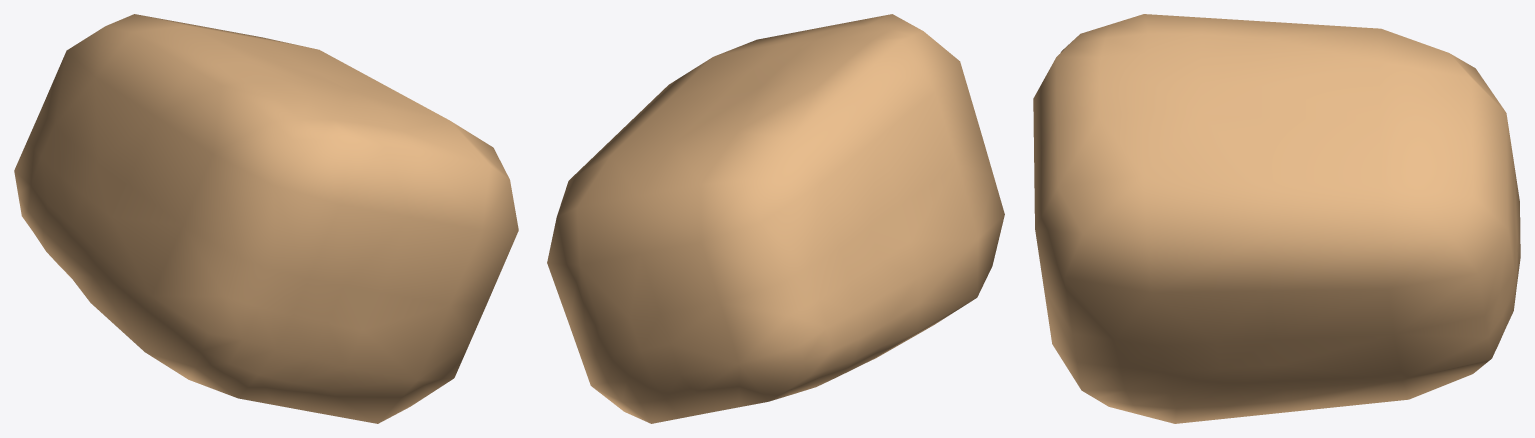
The model's file is pinky_02_l.dae.
3 views of the same model, side by side, from view 1: azimuth 30°, elevation 25°; view 2: azimuth 150°, elevation 25°; view 3: azimuth 270°, elevation 25° (orthographic). The views are drawn at different scales.
Visible parts, largest first — view 1: skin_geo_pinky_02_r; view 2: skin_geo_pinky_02_r; view 3: skin_geo_pinky_02_r.
Boxes of the visible parts, x1,y1,x2,y2 form: skin_geo_pinky_02_r: (14,14,518,423); skin_geo_pinky_02_r: (547,14,1004,423); skin_geo_pinky_02_r: (1033,14,1520,423).
Bounding box in the file's own units: 0.0201 × 0.0253 × 0.0194.
